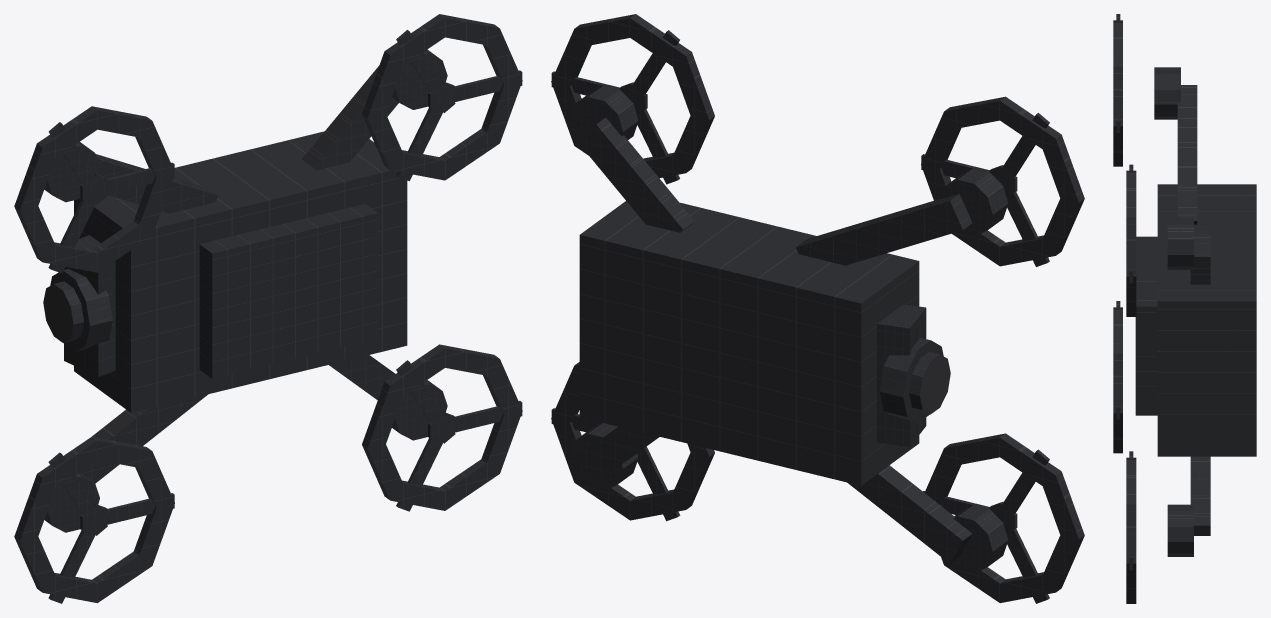
File: drone_variant_02_interceptor.obj
3 renders of one model, left to right at view 1: azimuth 30°, elevation 25°; view 2: azimuth 150°, elevation 25°; view 3: azimuth 270°, elevation 25°, orthographic. The views are drawn at different scales.
Bounding box in the file's own units: 0.778 × 0.716 × 0.2175.
Materials: 1 (1 with a texture image).
